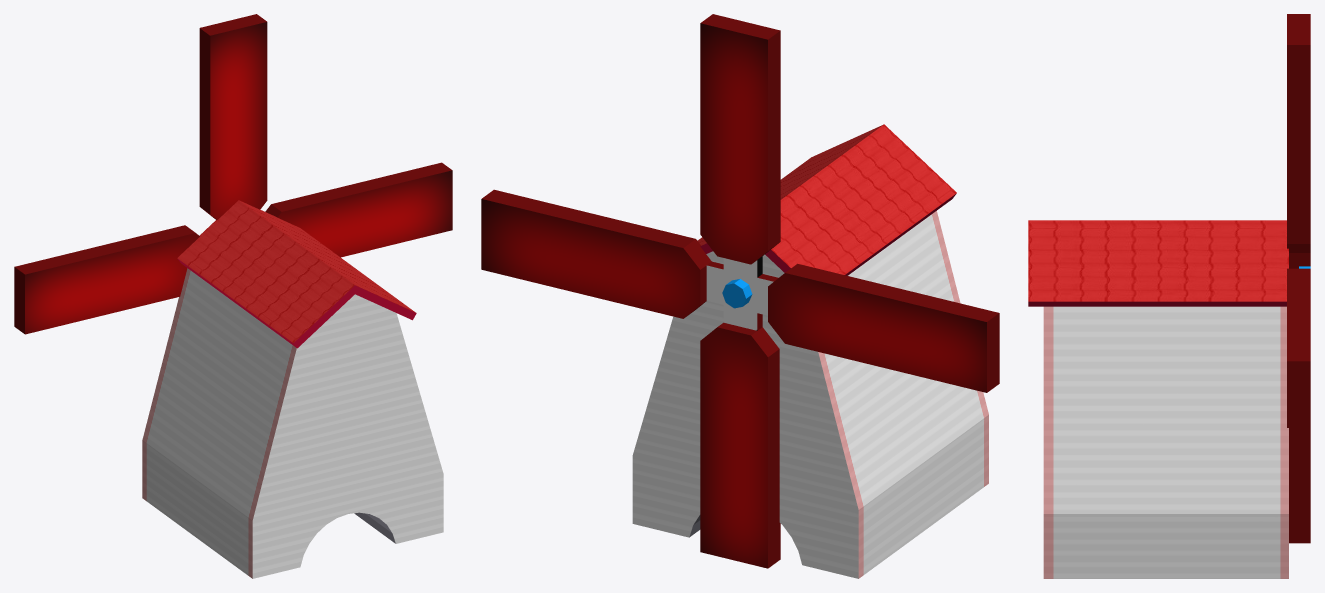
The model's file is windmill.fbx.
The picture shows the model from 3 angles, left to right: view 1: azimuth 30°, elevation 25°; view 2: azimuth 150°, elevation 25°; view 3: azimuth 270°, elevation 25°; orthographic projection. The views are drawn at different scales.
Visible parts, largest first — view 1: windmill.003, windmill.004; view 2: windmill.004, windmill.003; view 3: windmill.003, windmill.004.
Boxes of the visible parts, x1,y1,x2,y2 form: windmill.003: [142, 200, 443, 578]; windmill.004: [14, 14, 452, 334]; windmill.004: [481, 14, 999, 568]; windmill.003: [632, 124, 988, 578]; windmill.003: [1028, 220, 1288, 578]; windmill.004: [1287, 14, 1310, 543].
Size of the model in its own units: 179 by 179 by 92.07.
Materials: 1 (1 with a texture image).
